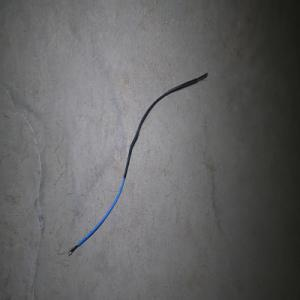Wire: (67, 72, 208, 255)
